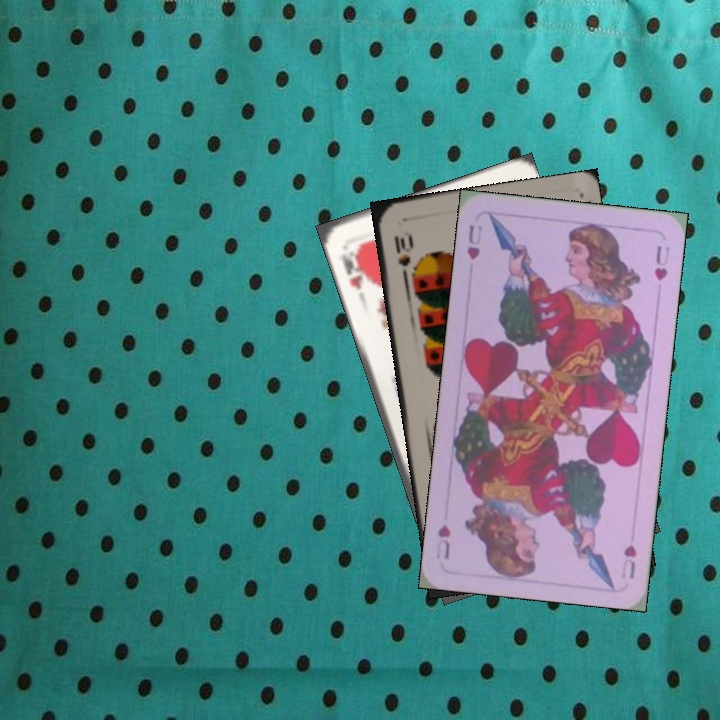HK: (337, 245, 370, 293)
HU: (463, 220, 485, 262), (617, 540, 639, 582)
S10: (390, 227, 413, 282)
